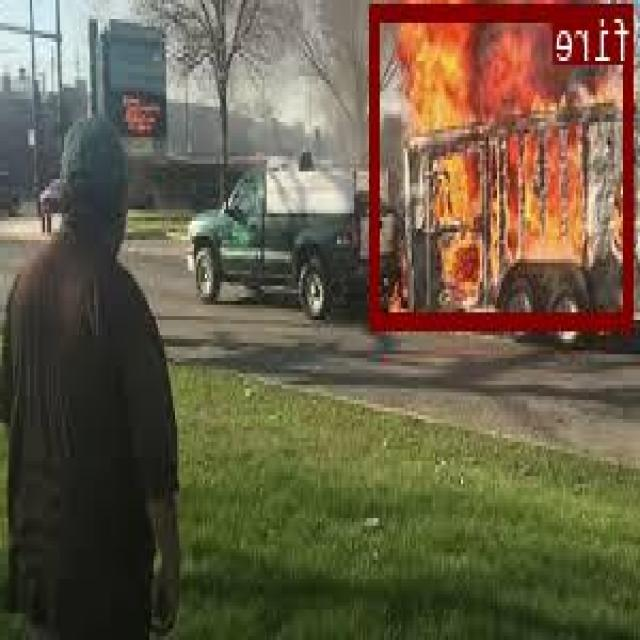fire: (372, 0, 634, 327)
